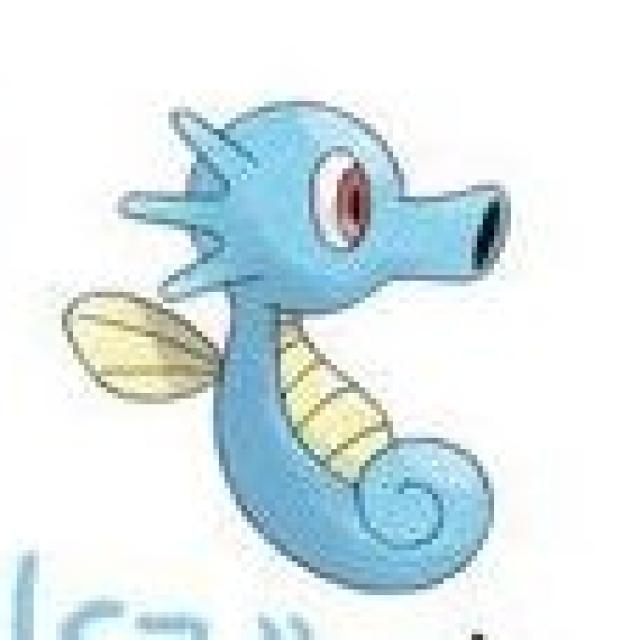Horsea: (146, 91, 524, 598)
